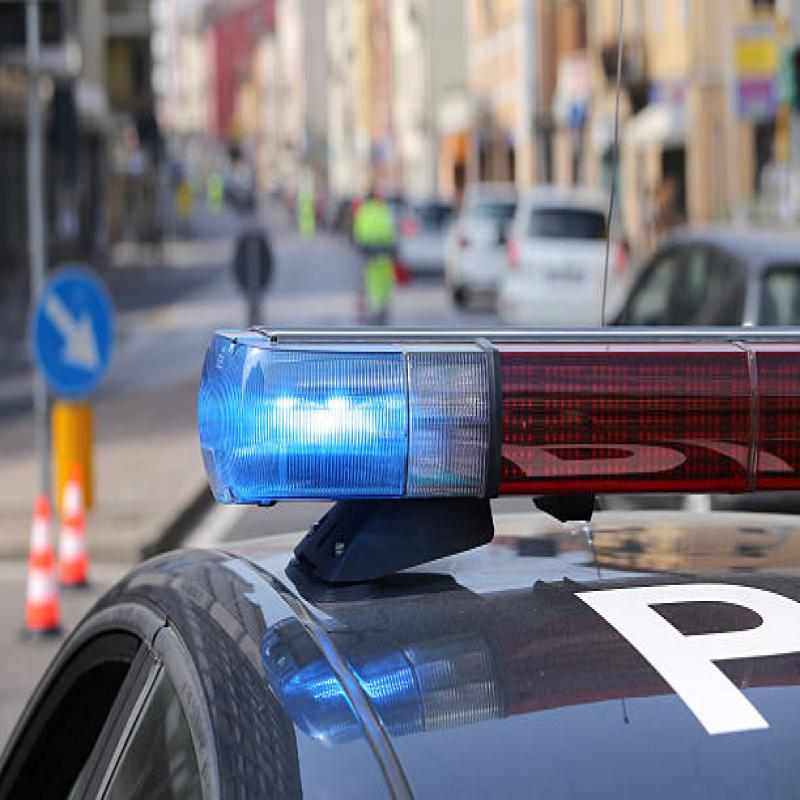AmbulanceSiren: (177, 304, 800, 558)
